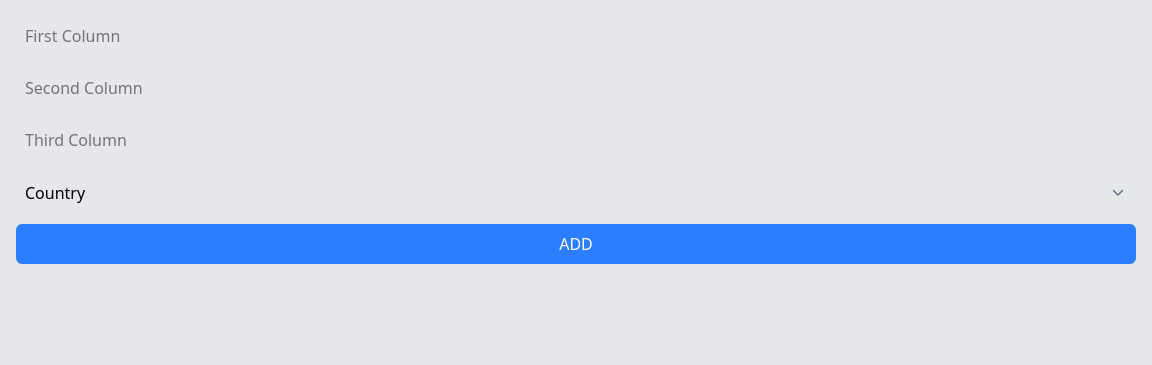
Test: CreateTableFormComponent › clears validation errors when user starts typing
Click the button "Add".
click(576, 244)  # box [16,224,1136,264]
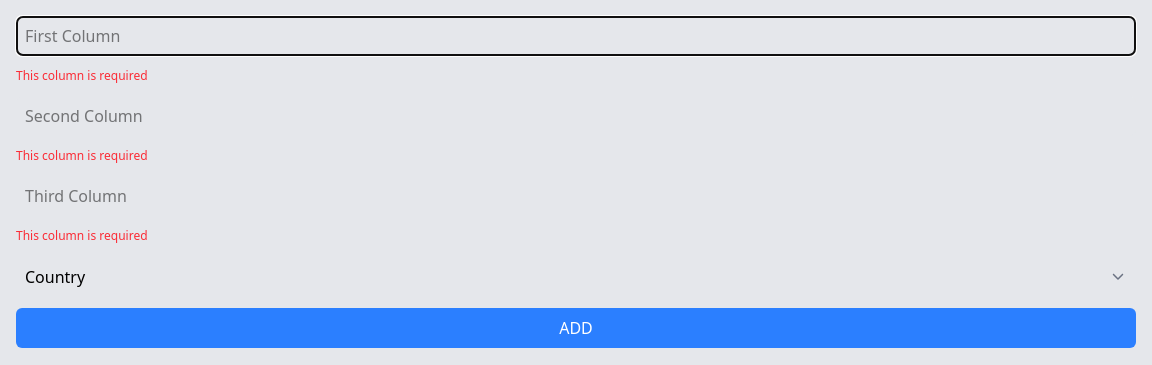
Expected: the text "This column is required" is shown 3 times, [16,67,148,84]; [16,147,148,164]; [16,227,148,244]
Type "Name" into the field with placeholder "First Column".
click(576, 36); type("Name")  # box [16,16,1136,56]
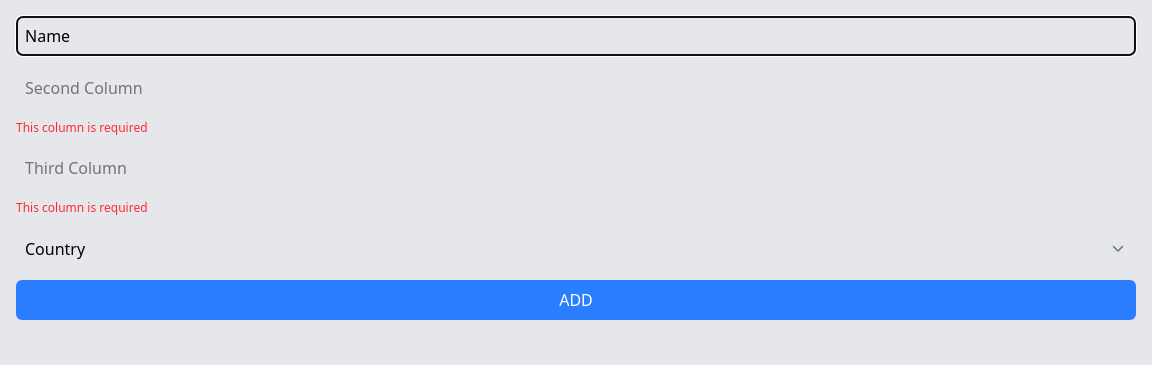
Expected: the text "This column is required" is shown 2 times, [16,119,148,136]; [16,199,148,216]
